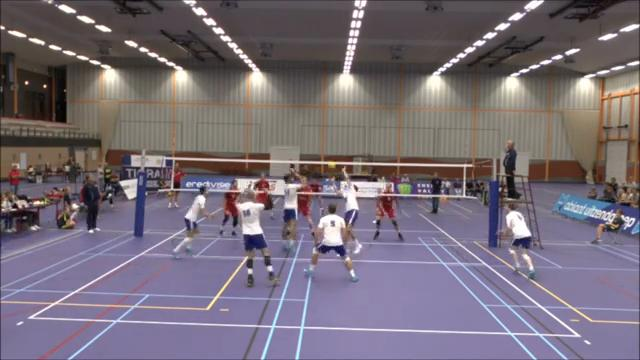Player: (305, 204, 357, 281), (237, 190, 278, 286), (173, 186, 212, 258), (506, 204, 535, 279), (373, 183, 403, 240), (282, 173, 300, 250), (219, 180, 239, 235), (253, 173, 274, 219), (298, 176, 313, 235), (309, 177, 323, 215)
Set: (331, 163, 365, 253)
ball: (328, 159, 337, 169)
